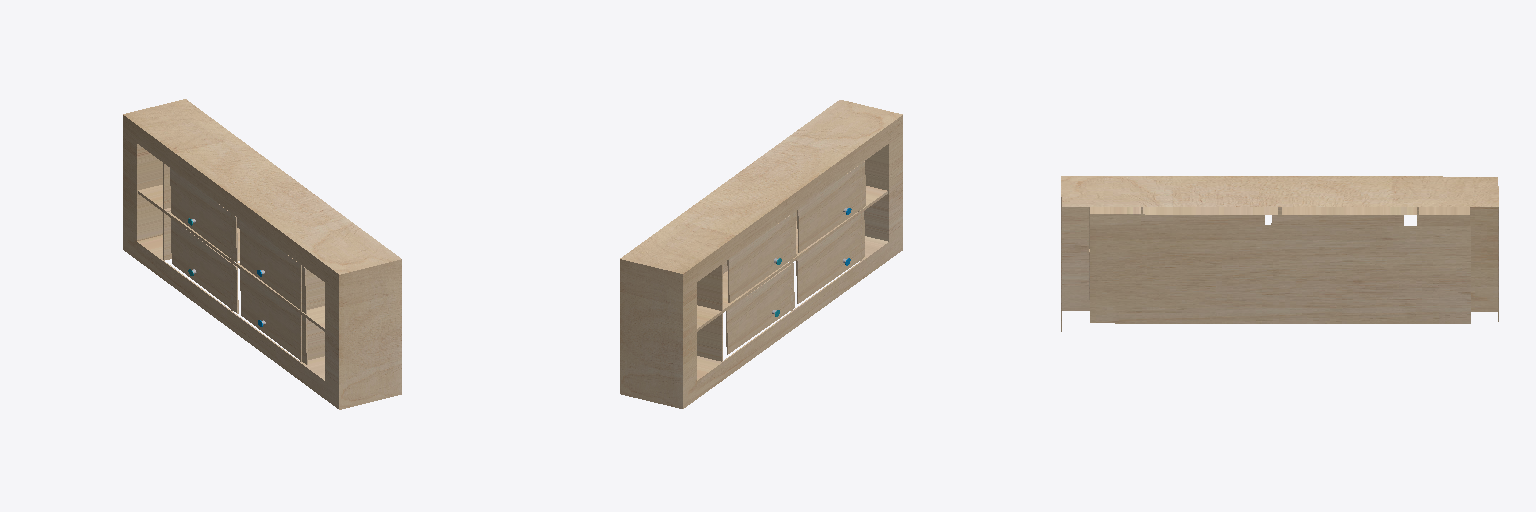
3 views of the same model, side by side, from view 1: azimuth 30°, elevation 25°; view 2: azimuth 150°, elevation 25°; view 3: azimuth 270°, elevation 25° (orthographic).
Visible parts, largest first — view 1: polySurface501; view 2: polySurface501; view 3: polySurface501.
Part boxes in pixels (x1,y1,x2,y2): polySurface501: (123, 99, 401, 409); polySurface501: (620, 100, 902, 408); polySurface501: (1061, 176, 1498, 331).
Size of the model in its own units: 1.41 by 2.33 by 6.83.
Materials: 4 (4 with a texture image).